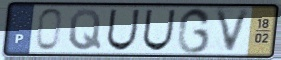0: (34, 7, 67, 53)
G: (175, 6, 213, 56)
Q: (67, 8, 103, 52)
U: (140, 8, 178, 53), (104, 8, 142, 52)
V: (212, 6, 254, 56)
